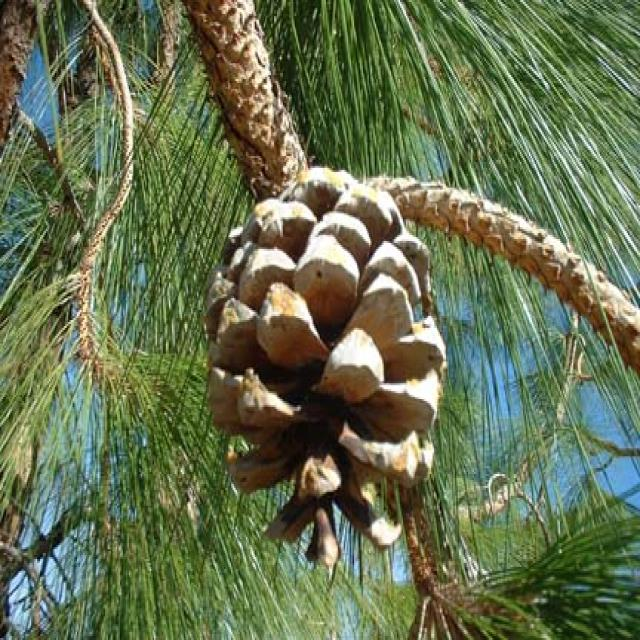Pine: (7, 6, 638, 620), (191, 84, 518, 490)
